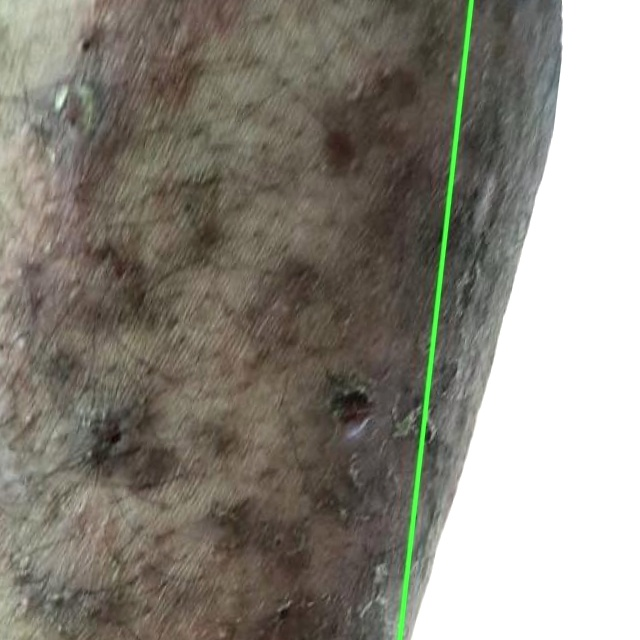Tinea Corporis: (399, 0, 639, 639)
